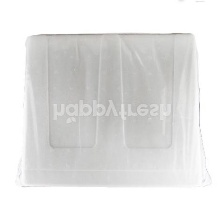foam_box: (11, 29, 213, 198)
